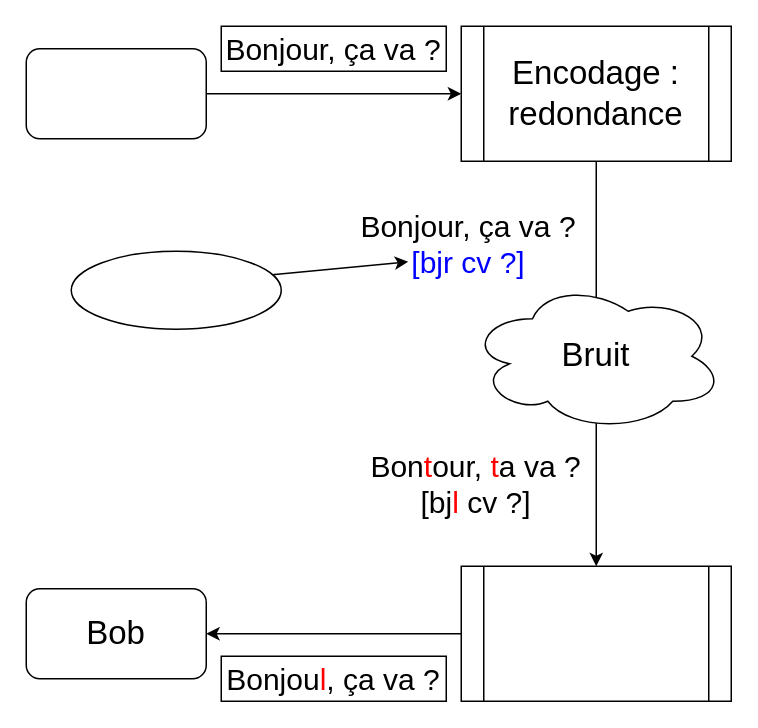
This 758x728 diagram has some shape labels left out. Here are the shapes that lost their labels. From the top down, the centre of each, then its label:
pixel 115 93: Alice
pixel 175 289: Information rajoutée
pixel 595 633: Décodage : trouver les erreurs
